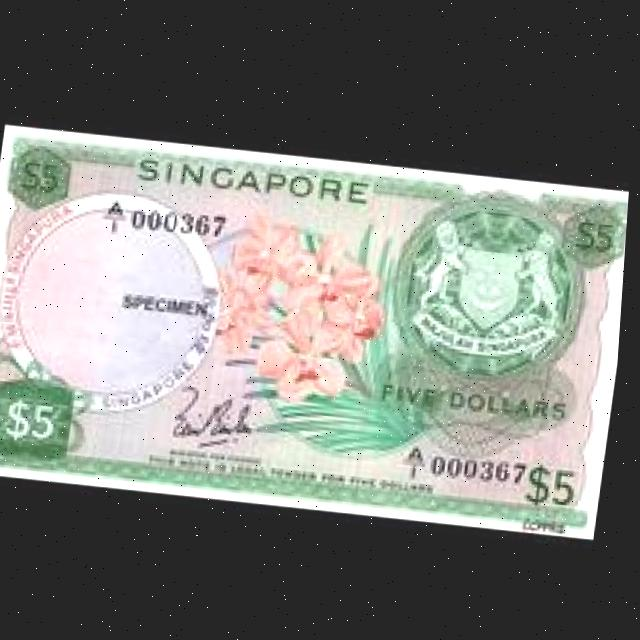banknote: (0, 120, 634, 535), (376, 363, 586, 430), (0, 378, 77, 457), (6, 142, 70, 214), (526, 450, 592, 508), (566, 201, 625, 263)
